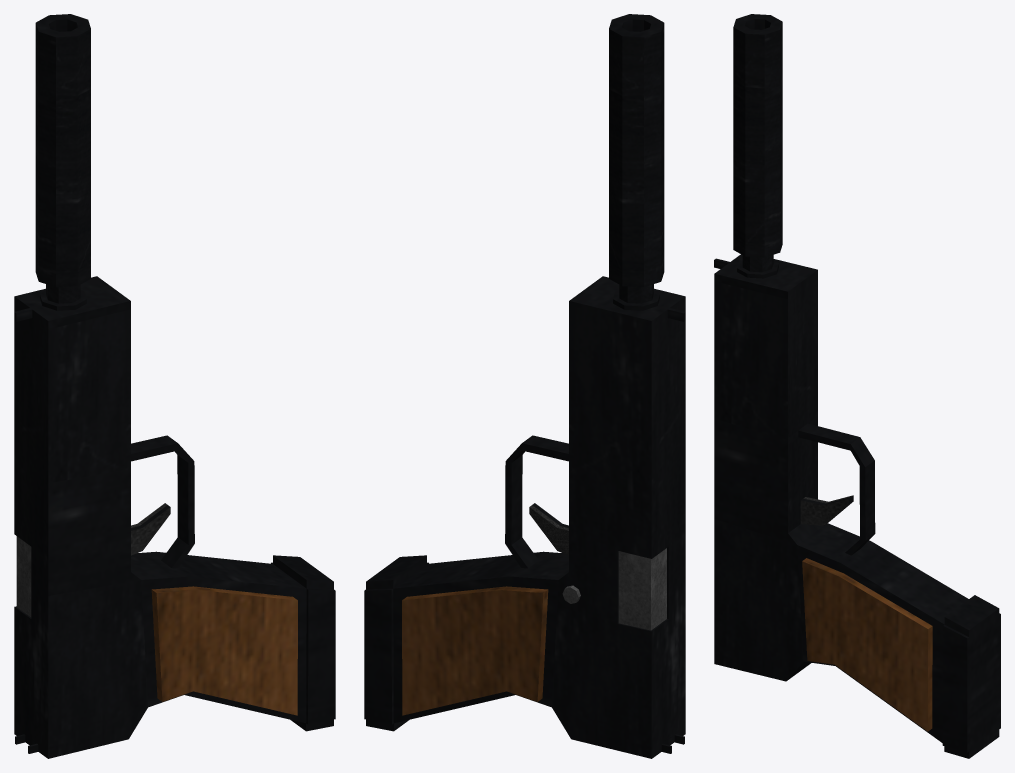
Rendered from Gun.glb.
The picture shows the model from 3 angles, left to right: view 1: azimuth 30°, elevation 25°; view 2: azimuth 150°, elevation 25°; view 3: azimuth 330°, elevation 25°; orthographic projection. The views are drawn at different scales.
Parts seen in each view (by area): view 1: Plane.002; view 2: Plane.002; view 3: Plane.002.
Boxes of the visible parts, x1=… form: Plane.002: x1=14, y1=14, x2=335, y2=758; Plane.002: x1=364, y1=14, x2=685, y2=758; Plane.002: x1=714, y1=14, x2=1000, y2=758.
Size of the model in its own units: 9.36 by 22.22 by 2.35.
1 material, 1 textured.
